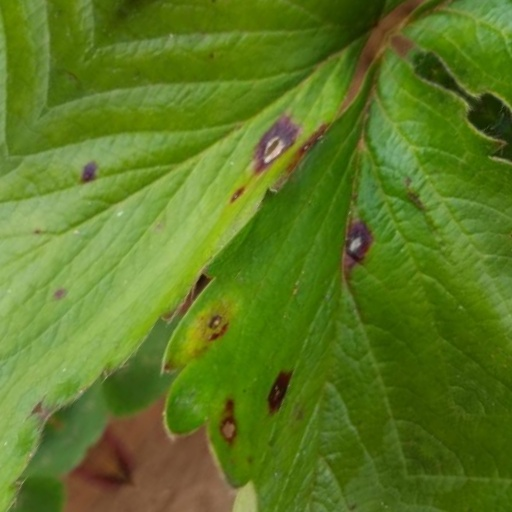Leaf Spot: (224, 3, 511, 511), (0, 0, 235, 511)
